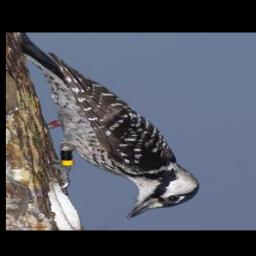Woodpecker: (17, 34, 202, 220)
